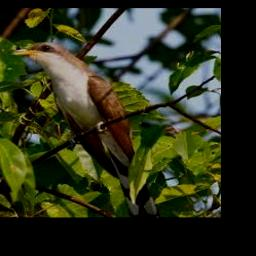Cuckoo: (12, 42, 161, 218)
